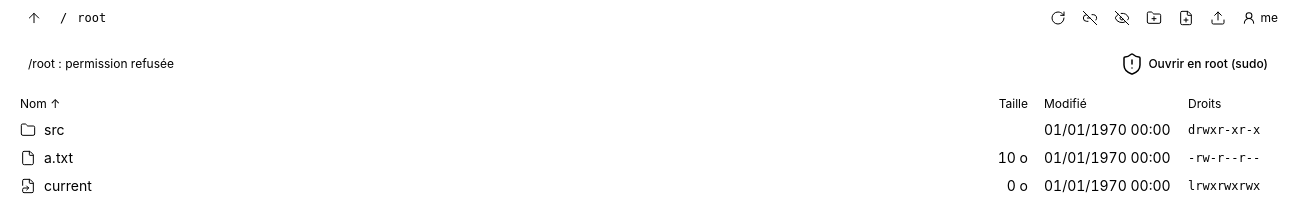
Scenario: a folder the login user may not read offers to open it as root
Check: the row "a.txt 10 o 01/01/1970 00:00 -rw-r--r--" is shown, box [12,144,1291,172]
Check: the text "/root : permission refusée" is shown, box [28,56,174,71]
Click the button "Ouvrir en root (sudo)" at (1194, 64), box [1112,52,1276,76]
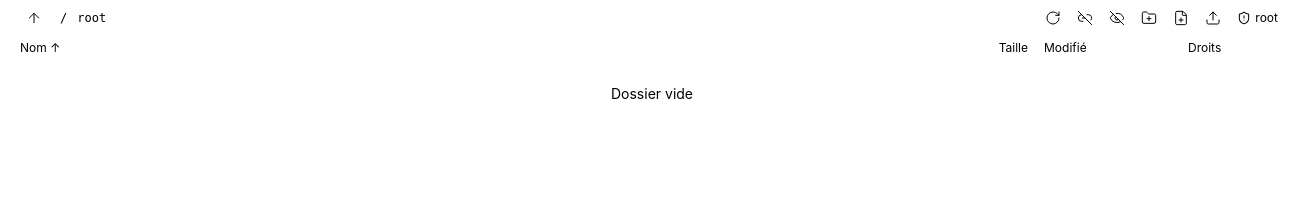
Check: the text "/root : permission refusée" is gone
Check: the button with aria-label "Utilisateur des fichiers : root" is shown, box [1231,4,1284,32]
